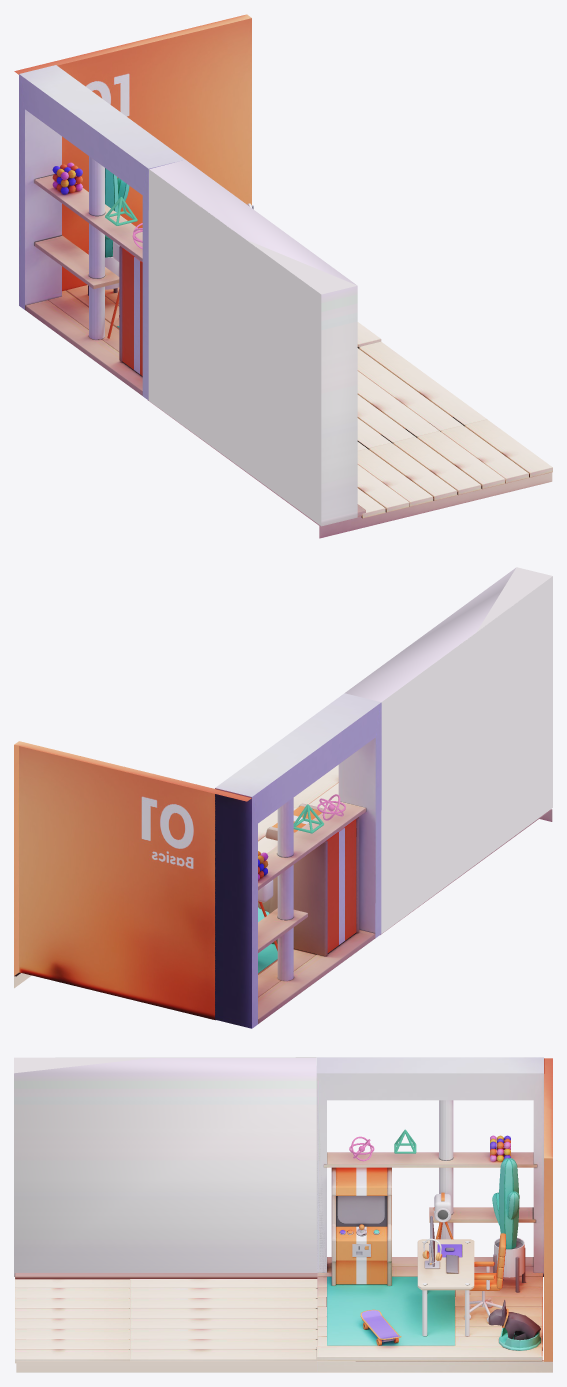
The model's file is level-react-draco.glb.
3 views of the same model, one above another, from view 1: azimuth 30°, elevation 25°; view 2: azimuth 150°, elevation 25°; view 3: azimuth 270°, elevation 25° (orthographic). The views are drawn at different scales.
Visible parts, largest first — view 1: Level, Level.002, Level.003, Level.013, Level.011, Level.014, Level.015, Level.004, Level.012, Level.016, Level.005, Level.017 (+1 smaller); view 2: Level, Level.012; view 3: Level, Level.001, Level.002, Level.006, Level.005, Level.007, Level.003, Level.004, Level.008, Cactus, Level.009, Level.011 (+9 smaller).
Boxes of the visible parts, x1=… form: Level: x1=14, y1=14, x2=552, y2=538; Level.002: x1=357, y1=341, x2=487, y2=425; Level.003: x1=357, y1=348, x2=462, y2=430; Level.013: x1=403, y1=427, x2=505, y2=489; Level.011: x1=450, y1=415, x2=552, y2=477; Level.014: x1=379, y1=433, x2=481, y2=495; Level.015: x1=357, y1=441, x2=457, y2=500; Level.004: x1=357, y1=371, x2=439, y2=436; Level.012: x1=440, y1=425, x2=528, y2=483; Level.016: x1=357, y1=449, x2=432, y2=506; Level.005: x1=357, y1=395, x2=415, y2=442; Level.017: x1=357, y1=465, x2=409, y2=512; Level: x1=14, y1=567, x2=552, y2=1028; Level.012: x1=293, y1=765, x2=338, y2=807; Level: x1=14, y1=1057, x2=552, y2=1372; Level.001: x1=316, y1=1347, x2=542, y2=1360; Level.002: x1=130, y1=1349, x2=355, y2=1361; Level.006: x1=130, y1=1308, x2=317, y2=1318; Level.005: x1=130, y1=1318, x2=317, y2=1328; Level.007: x1=130, y1=1298, x2=317, y2=1308; Level.003: x1=130, y1=1339, x2=317, y2=1349; Level.004: x1=130, y1=1329, x2=317, y2=1338; Level.008: x1=130, y1=1288, x2=317, y2=1297; Cactus: x1=492, y1=1158, x2=519, y2=1249; Level.009: x1=130, y1=1279, x2=317, y2=1287; Level.011: x1=15, y1=1349, x2=129, y2=1363.
Bounding box in the file's own units: 2 × 2.01 × 4.56.
Materials: 6 (3 with a texture image).
